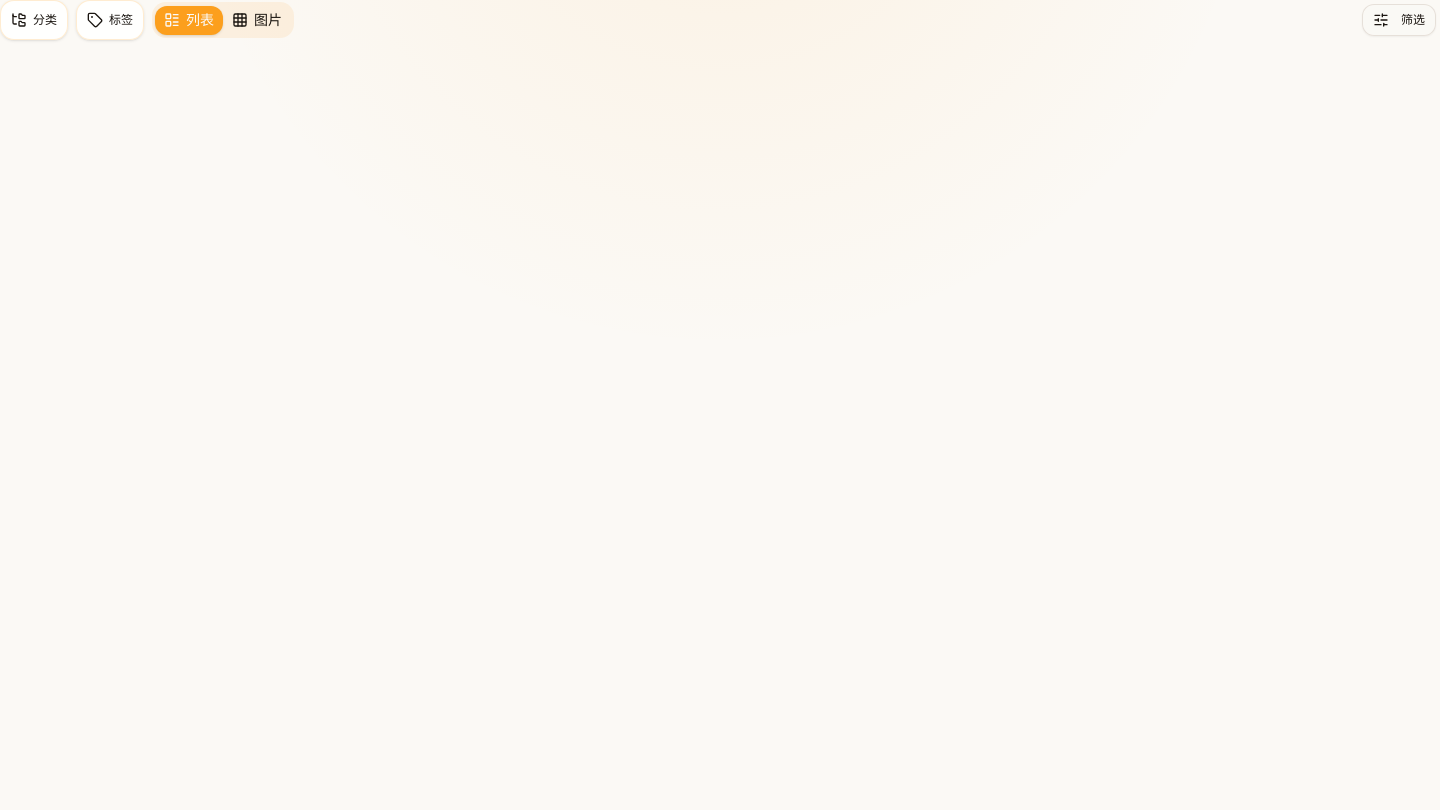
Test: ThingHeader › 标签筛选 › 应该支持打开标签下拉菜单
What coordinates should you click on to do the following:
click the button with aria-label "打开标签筛选"
I would click on:
 (110, 20)
Its box is [76,0,144,40].
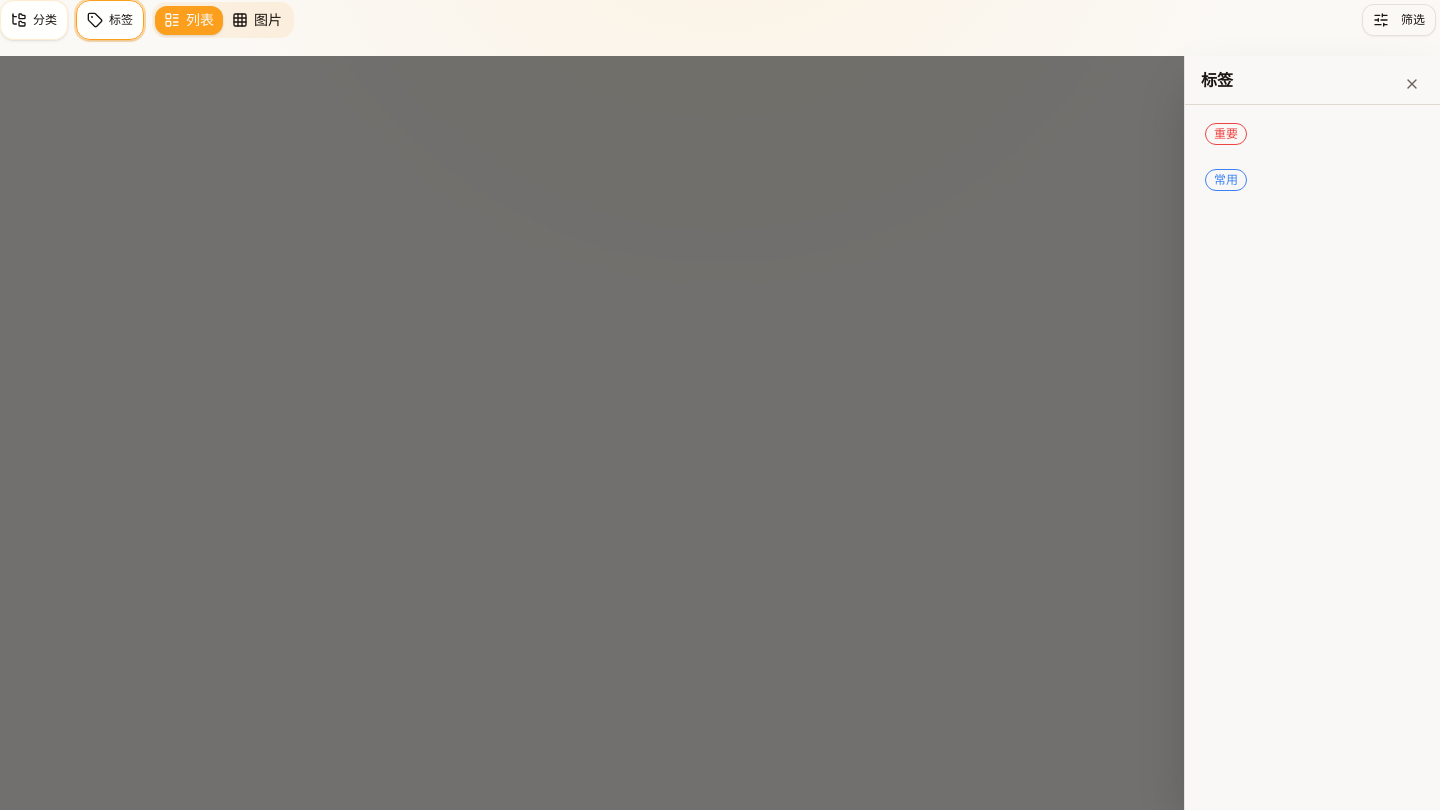
Expected: the text "重要" is shown, [1214,126,1238,142]
Expected: the text "常用" is shown, [1214,172,1238,188]
